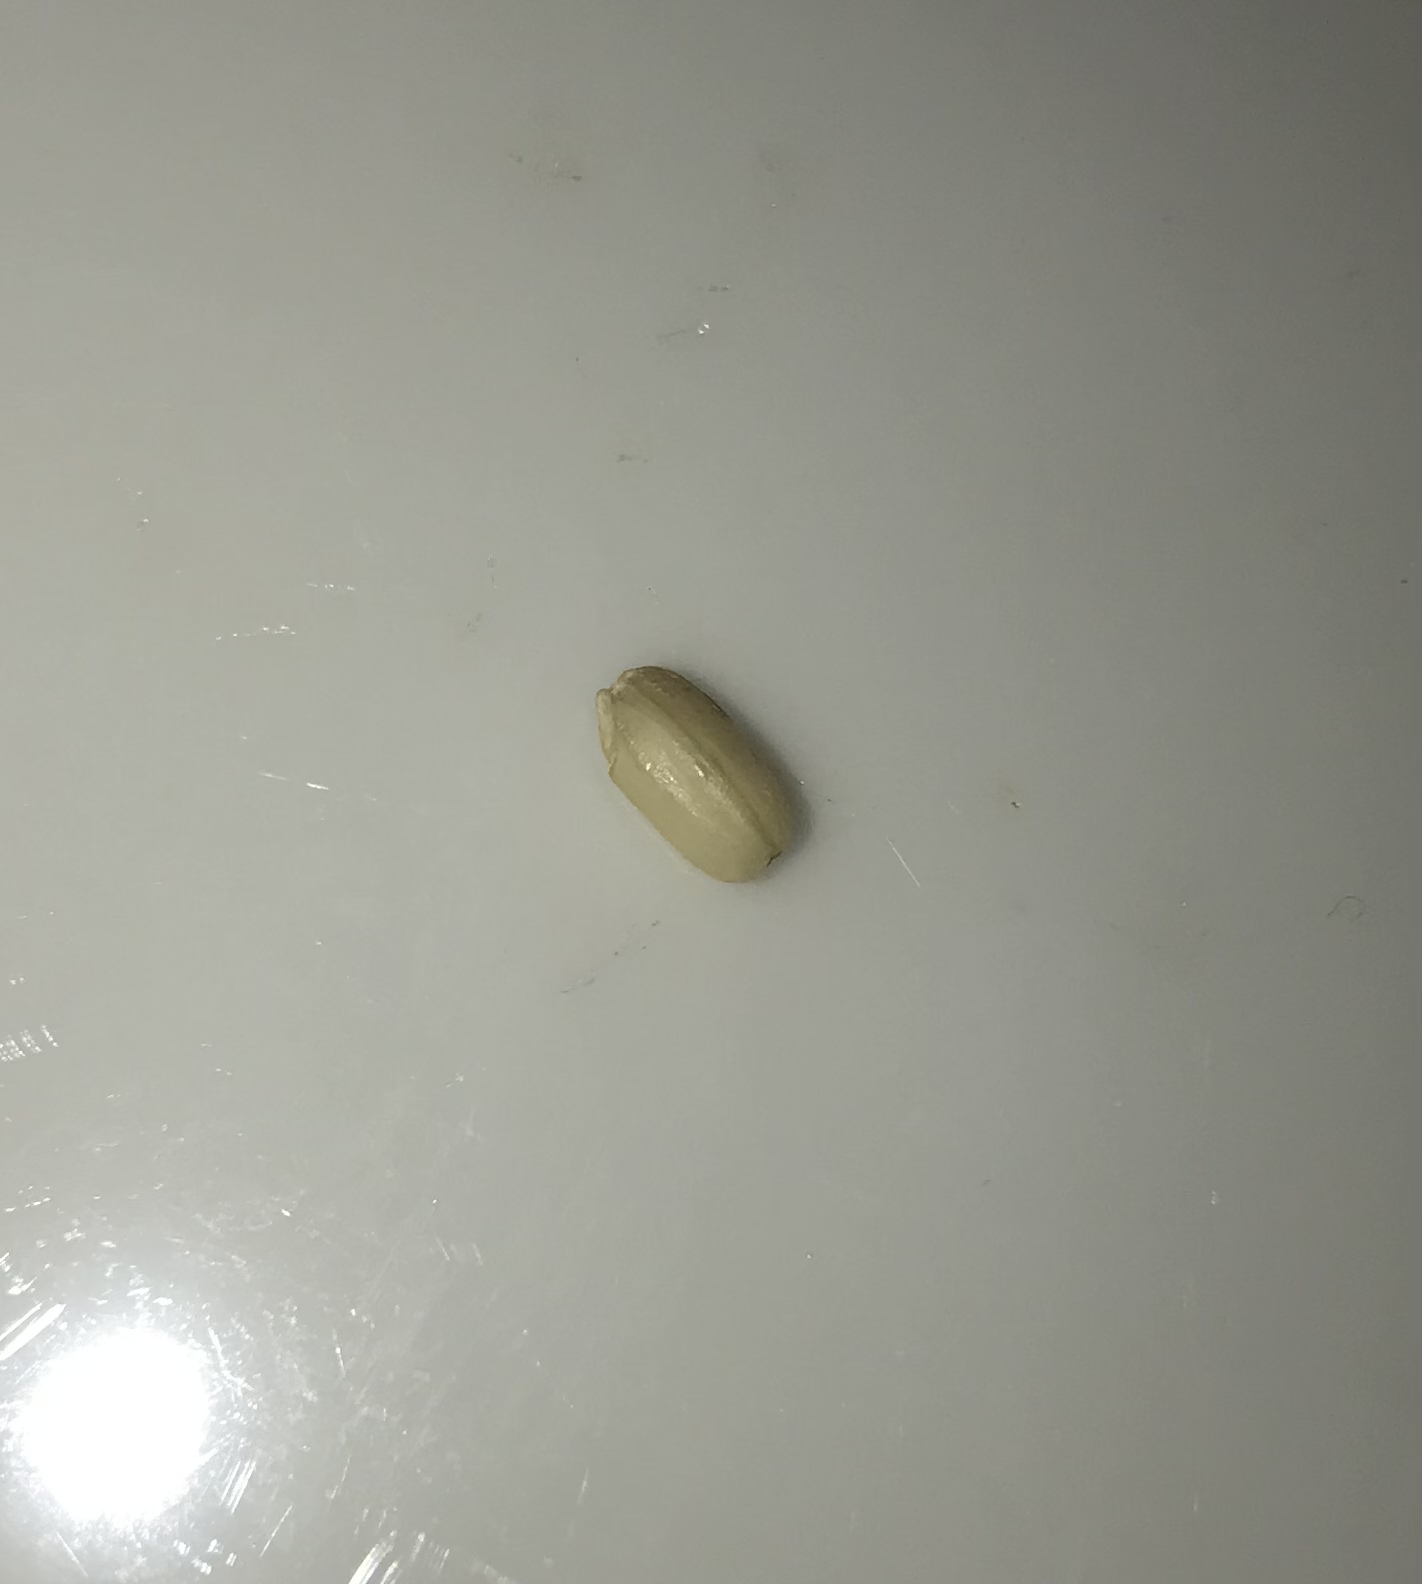Gao Lut Bac: (582, 633, 811, 902)
